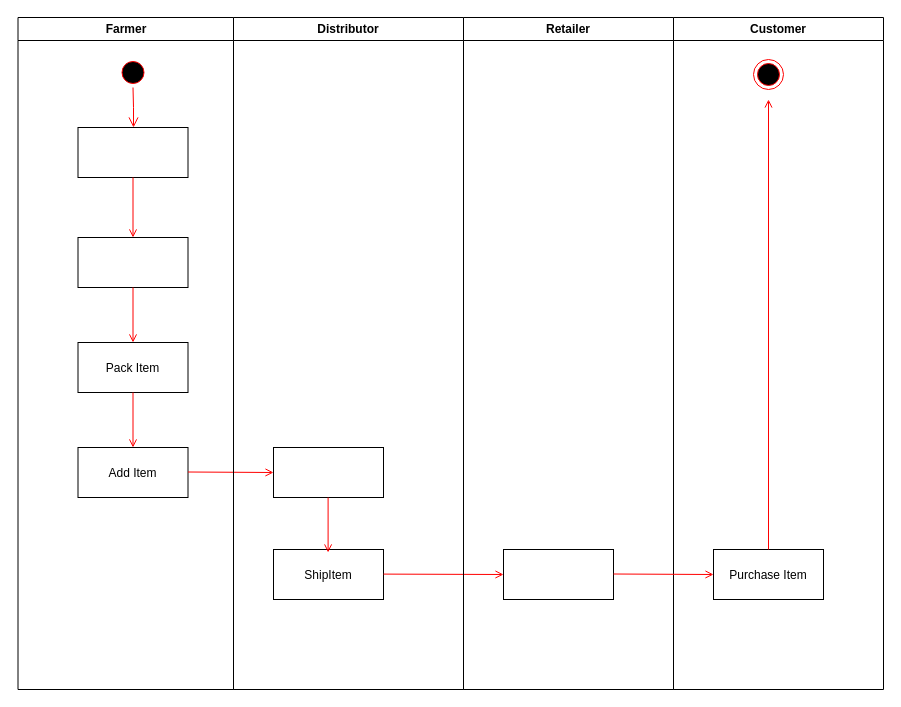
The diagram is 901 pixels wide and 707 high, and some of its shapes have lost their labels. Each missing label, with the centre of its shape:
Buy Item: (328,472)
Harvest Item: (132,152)
Process Item: (132,262)
ReceiveItem: (558,574)
